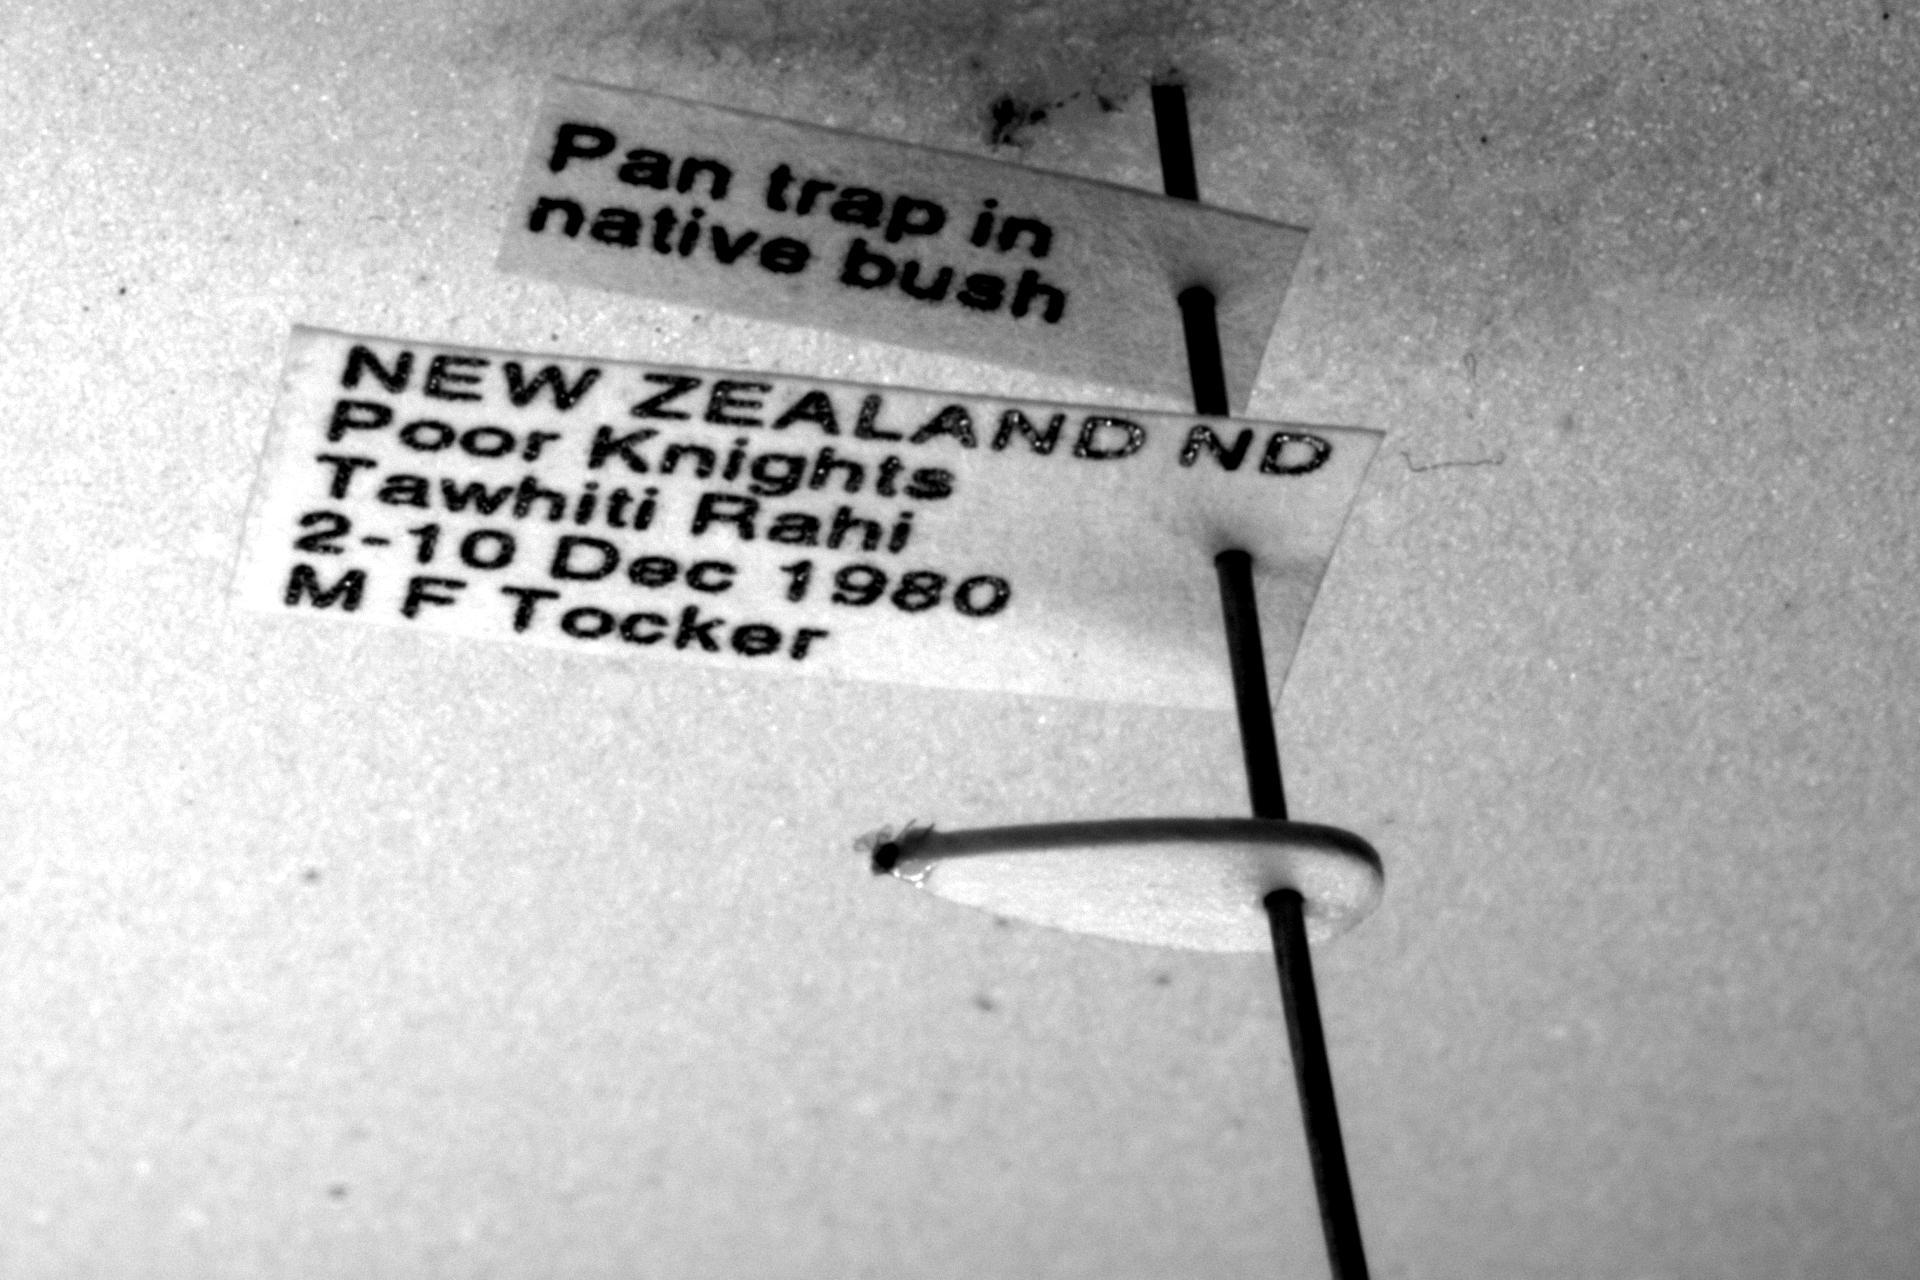typed_label: (233, 326, 1380, 709), (499, 79, 1306, 409)
